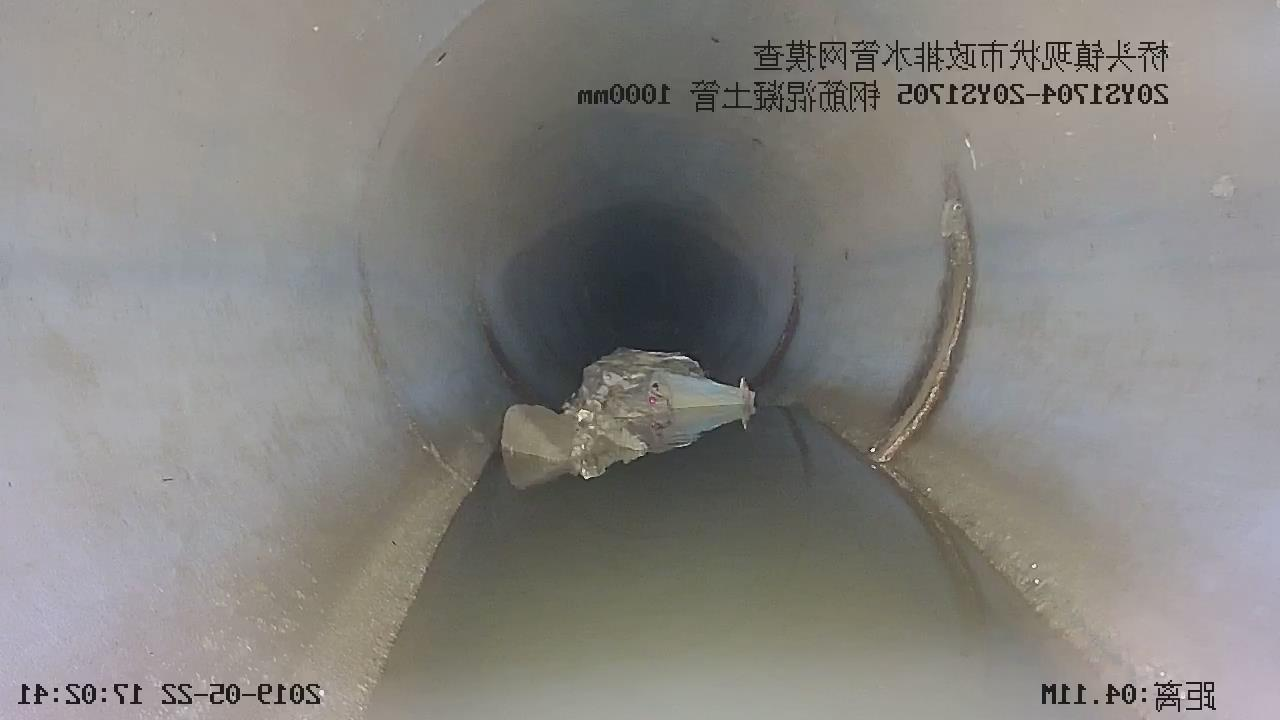ZAW: (502, 349, 754, 487)
